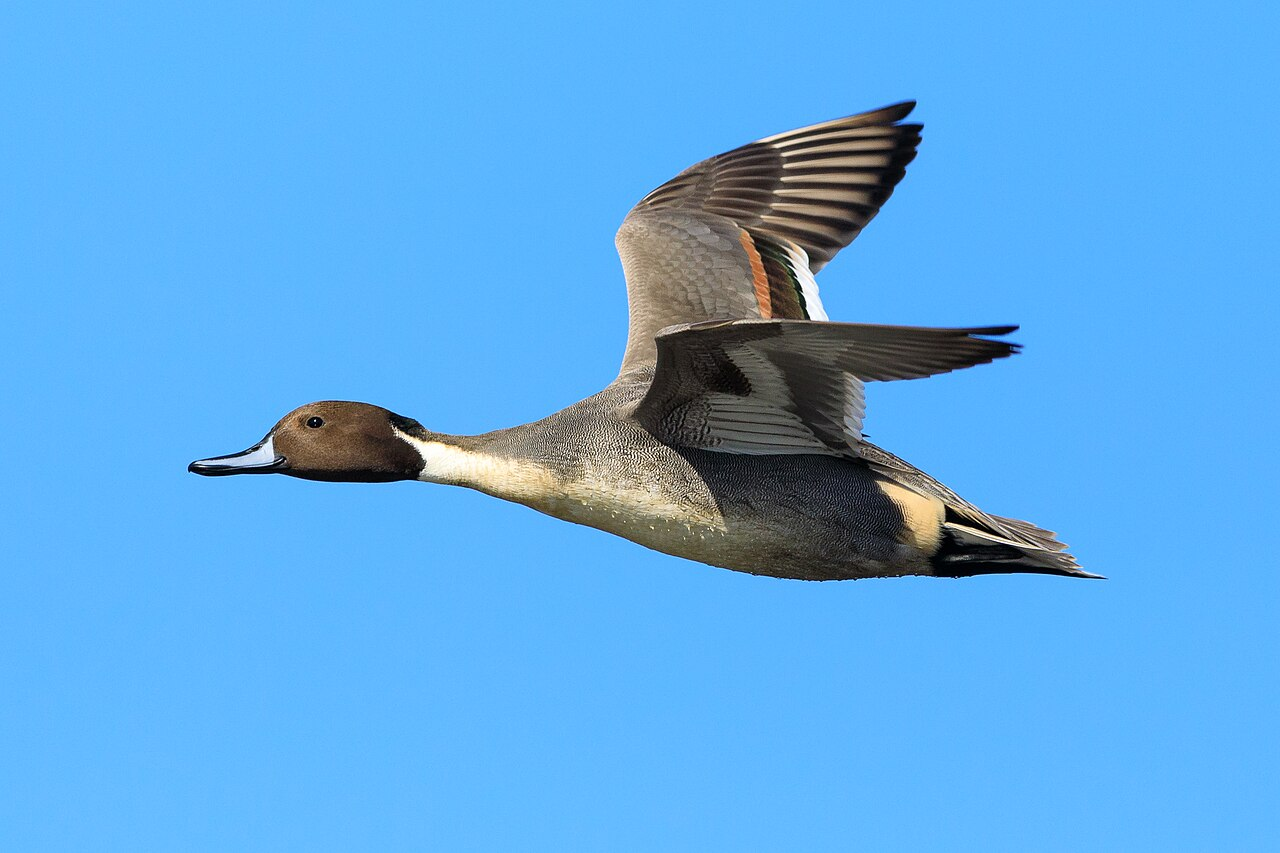bird: (184, 81, 1107, 582)
